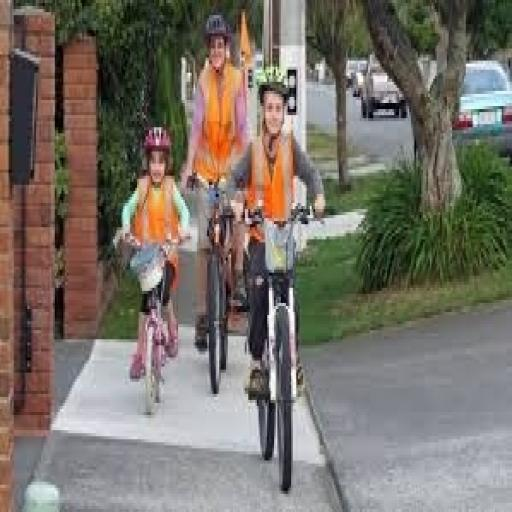cycling: (222, 70, 328, 400), (180, 12, 253, 355), (114, 121, 194, 385)
